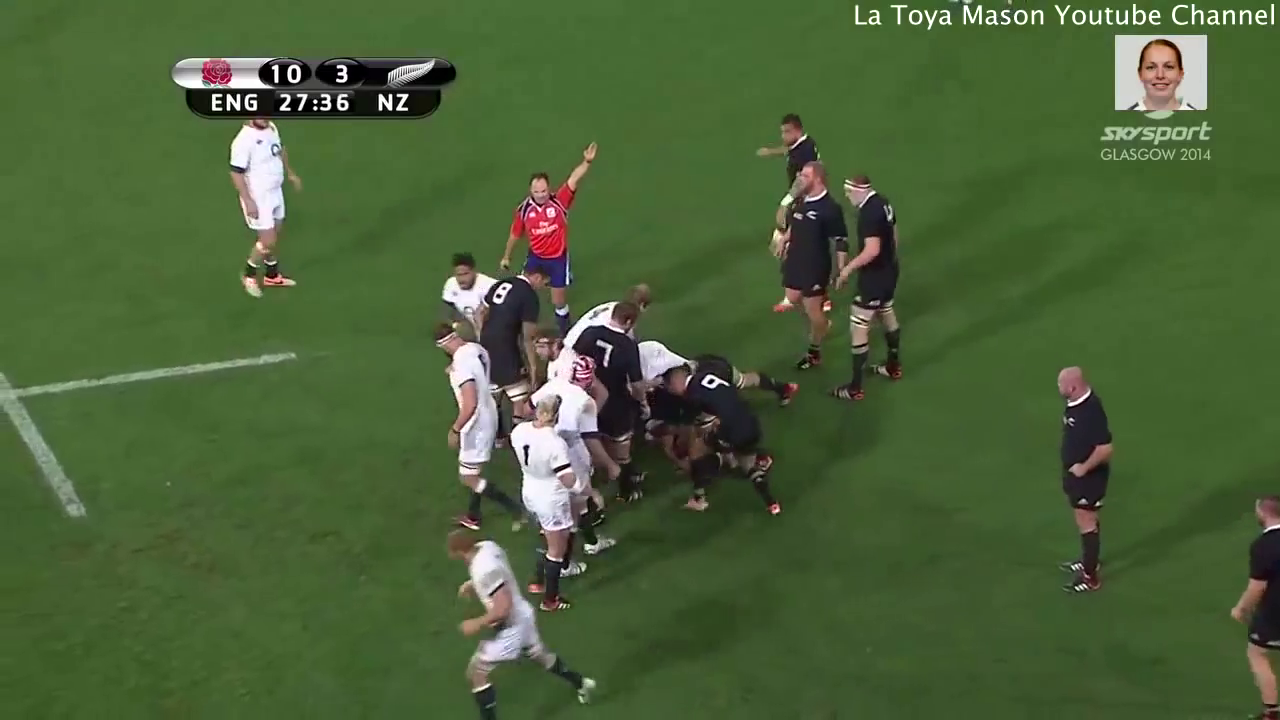player: (443, 523, 597, 716), (1034, 357, 1134, 600), (424, 312, 524, 536), (836, 168, 918, 407), (492, 137, 604, 310), (207, 121, 305, 302), (659, 372, 782, 511), (782, 161, 850, 394), (520, 388, 583, 613), (1231, 480, 1280, 720), (589, 302, 641, 514), (472, 261, 554, 386), (749, 110, 832, 177), (432, 247, 491, 320)
ruck: (542, 320, 779, 497)
